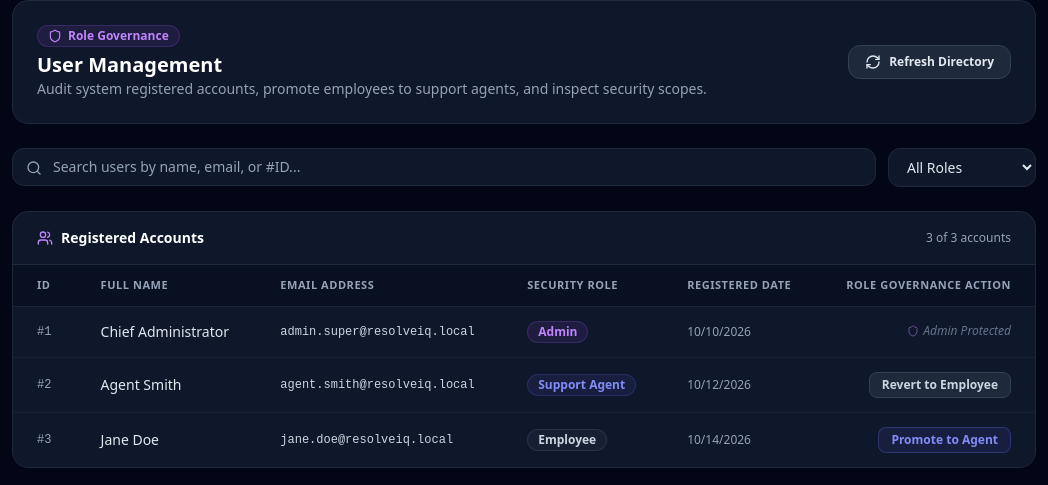
ResolveIQ Batch 10 — Admin Dashboard & Operations Management › Phase 2 — User Management & Safe Role Governance › filters users by search term and role dropdown
This screenshot has width=1048, height=485.
Expected: the text "Jane Doe" is shown, [77,412,256,466]
// Filter by search
Type "Smith" into the field with placeholder "Search users by name, email, or #ID..." at {"x": 444, "y": 167}, box [12,148,876,186]
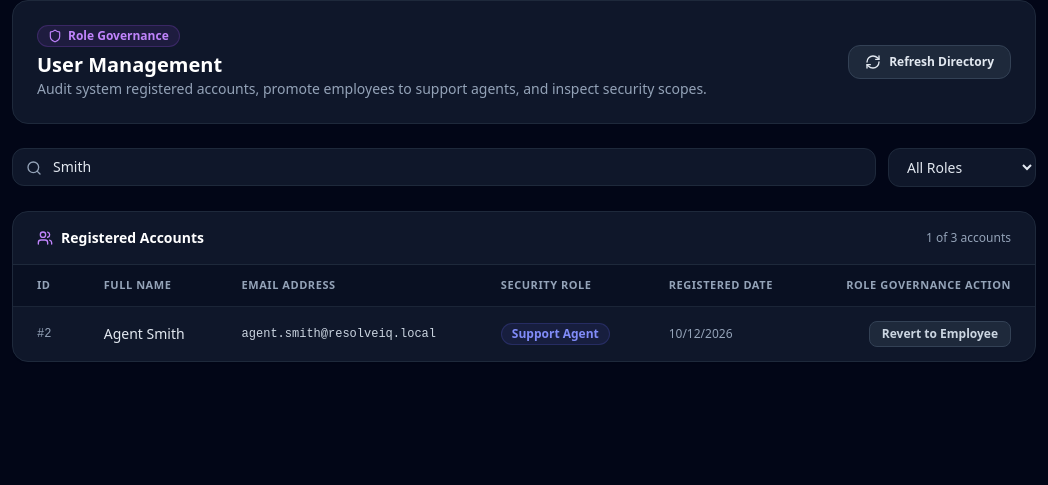
Expected: the text "Agent Smith" is shown, [80,306,218,360]
Now the text "Jane Doe" is gone
// Clear search and filter by role
Clear the field with placeholder "Search users by name, email, or #ID..." at {"x": 444, "y": 167}, box [12,148,876,186]
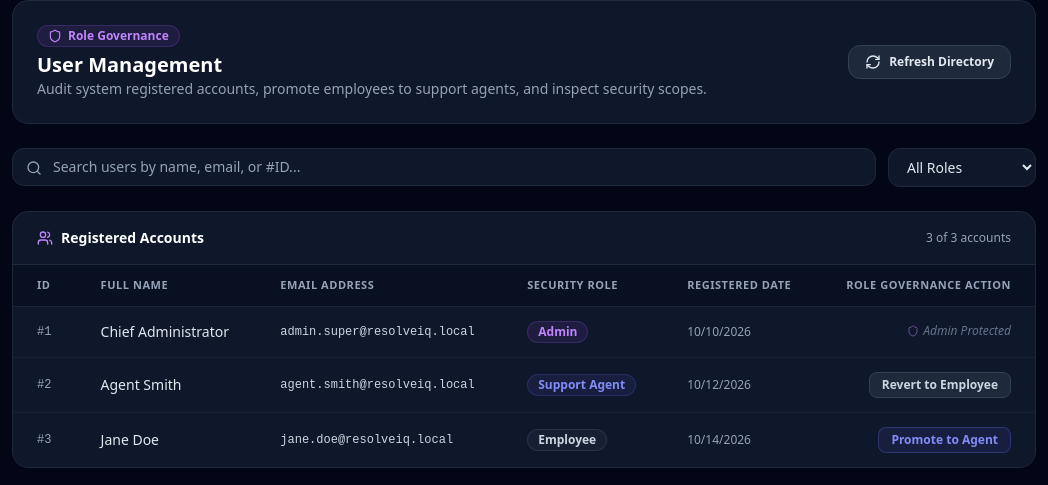
Select "Employees" in the dropdown at {"x": 962, "y": 168}, box [888,148,1036,187]
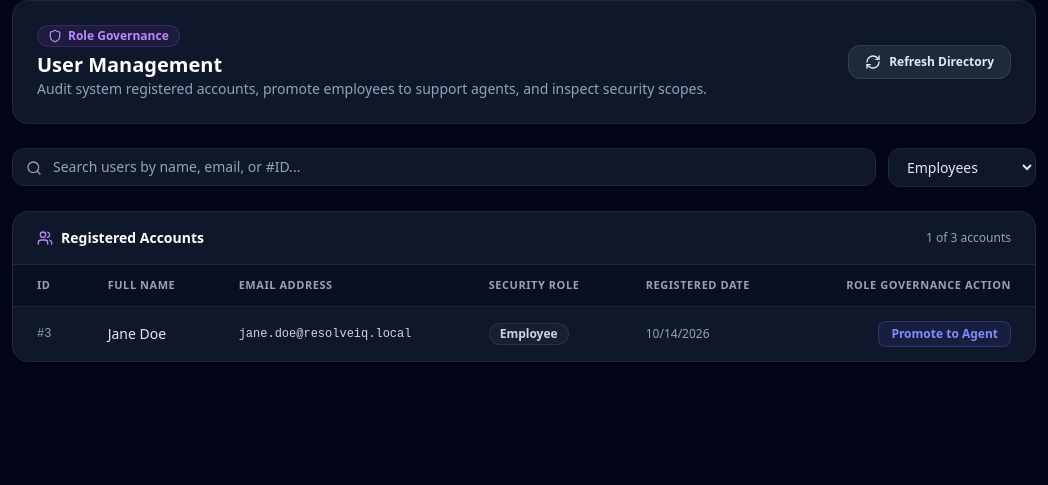
Now the text "Jane Doe" is shown, box [84,306,215,360]
Now the text "Agent Smith" is gone
Now the text "Chief Administrator" is gone
